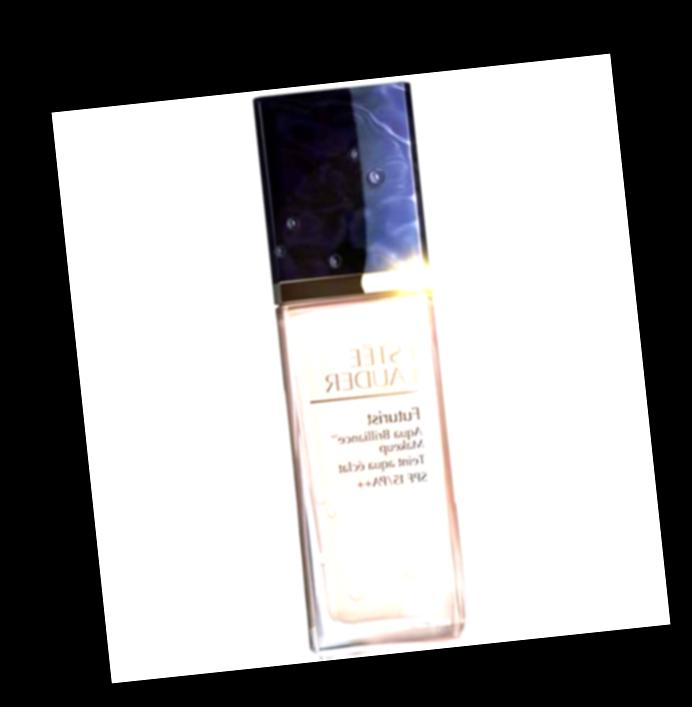cosmetic: (248, 79, 470, 659)
